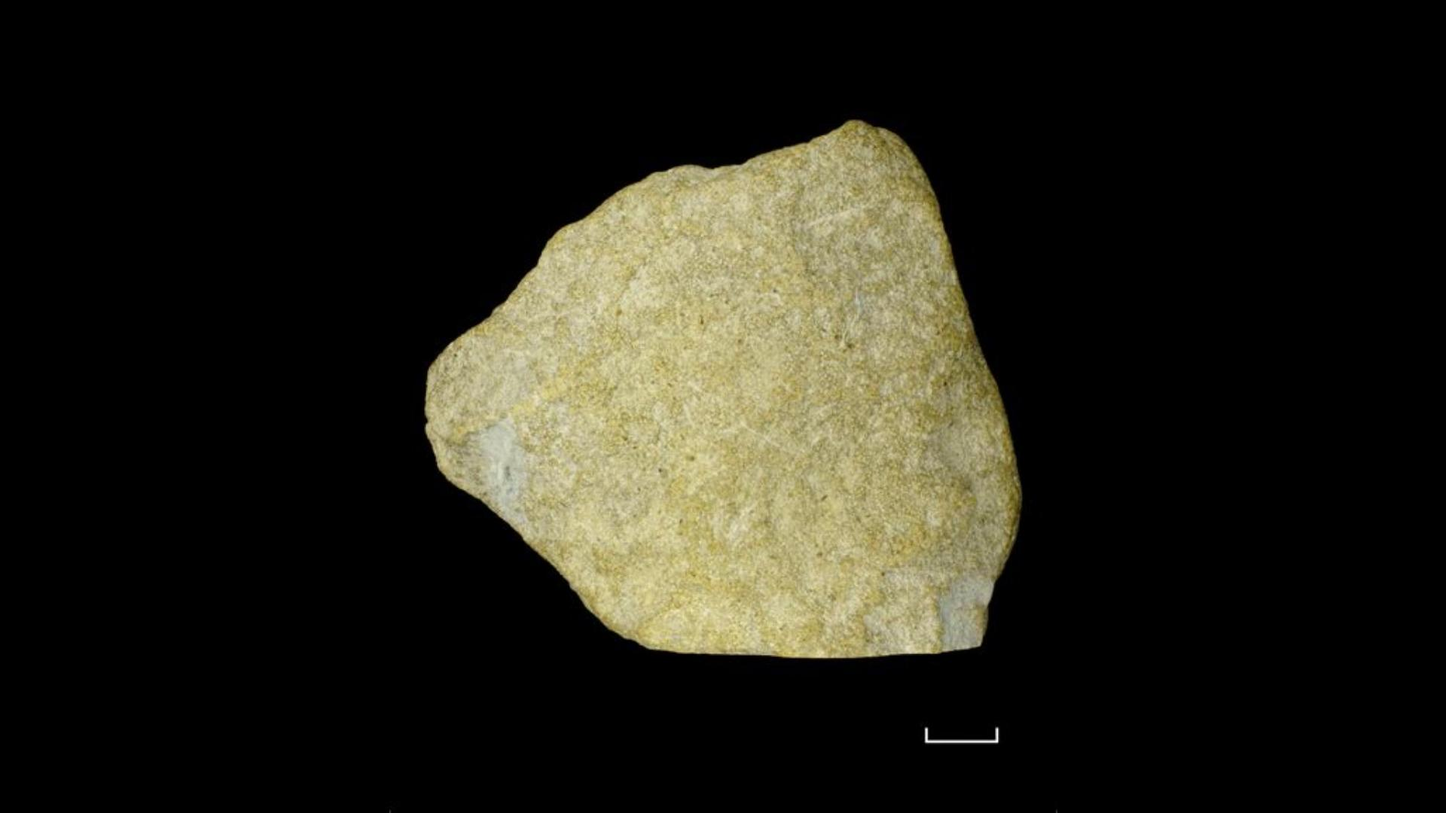rock: (427, 121, 1017, 655)
